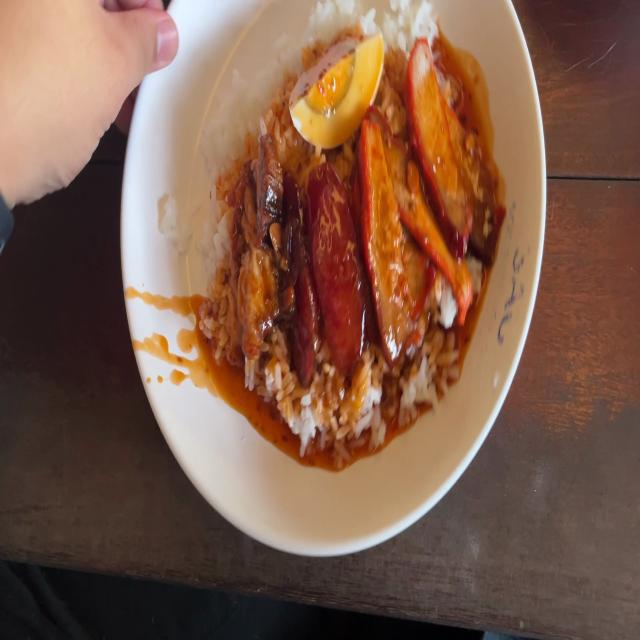01boiled_egg: (293, 34, 382, 138)
01chainese_sausage: (290, 162, 353, 379)
01crispy_pork: (236, 147, 281, 352)
01red_pork: (369, 47, 484, 331)
01red_pork_and_crispy_pork: (208, 0, 491, 439)
01rice: (214, 30, 291, 158), (369, 0, 440, 49)
